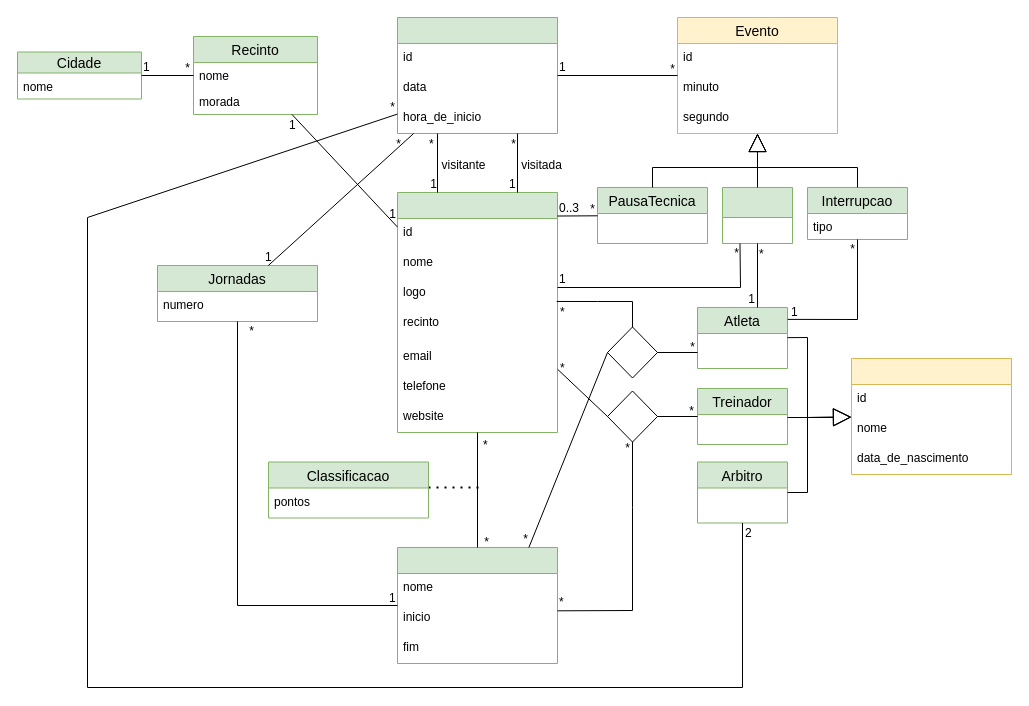
The diagram is 1029 pixels wide and 706 high, and some of its shapes have lost their labels. The shapes that lost their labels are listed below. From the top down, each one's box as (x1, y1, x2, y2) in pixels, then its label:
(396, 16, 558, 134): Jogo
(722, 186, 792, 244): Golo
(396, 192, 558, 432): Equipa
(850, 358, 1012, 474): Pessoa
(396, 546, 558, 664): Epoca
